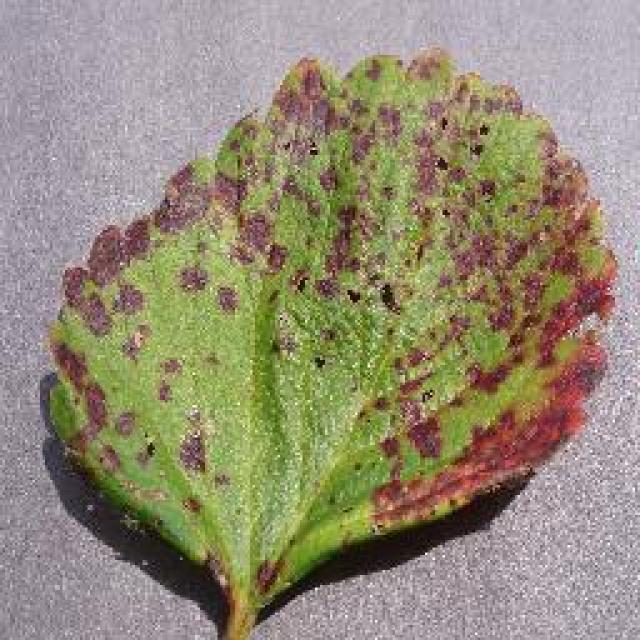Strawberry leaf scorch: (244, 108, 568, 447)
